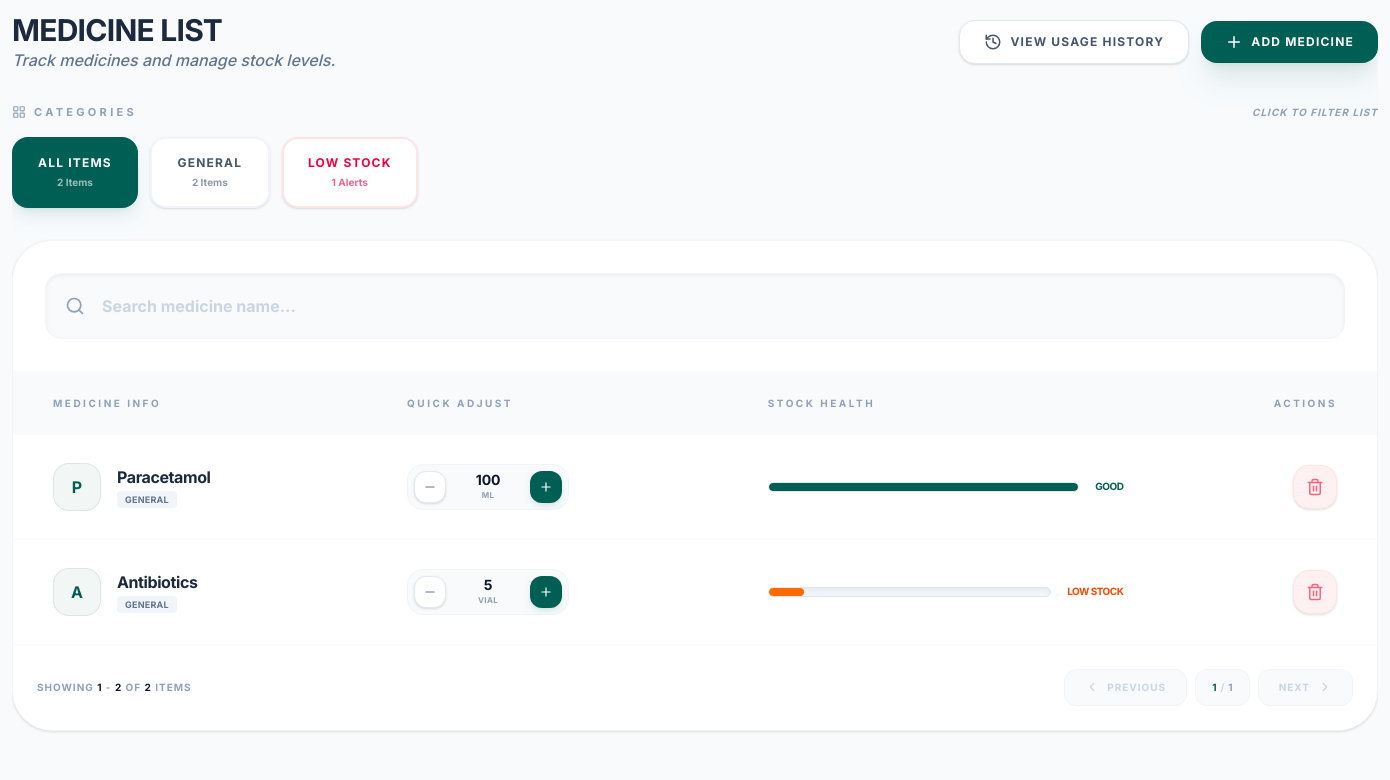
Test: InventoryPage › filters medicines by search term
Type "Para" into the field with placeholder "Search medicine name..." at {"x": 695, "y": 306}, box x1=45 y1=272 x2=1345 y2=338
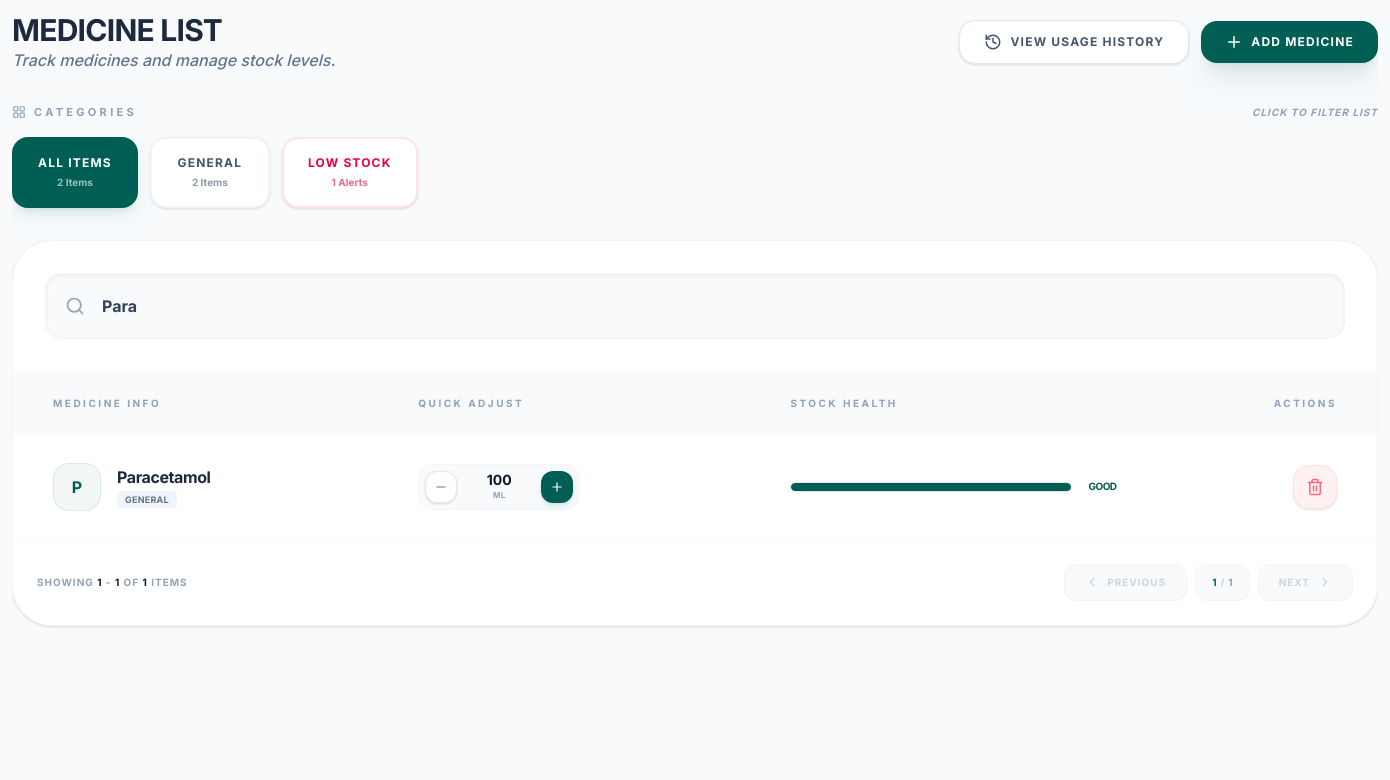
Expected: the text "Paracetamol" is shown, x1=117 y1=465 x2=211 y2=489
Result: the text "Antibiotics" is gone
